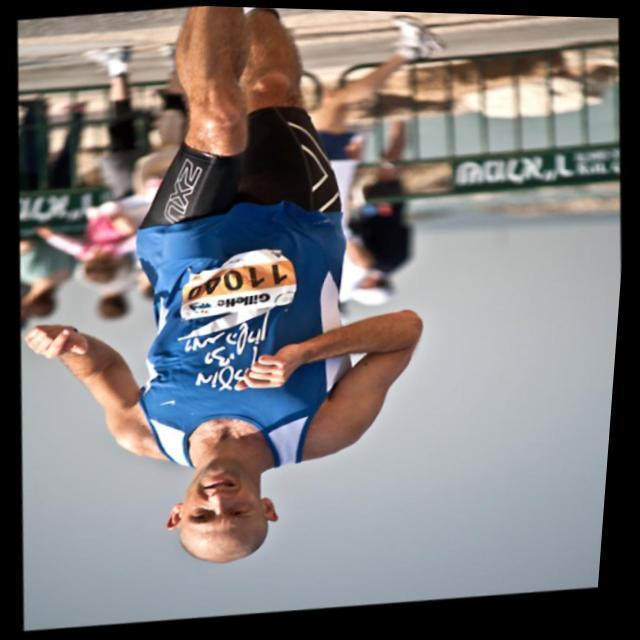dorsal: (155, 241, 308, 332)
